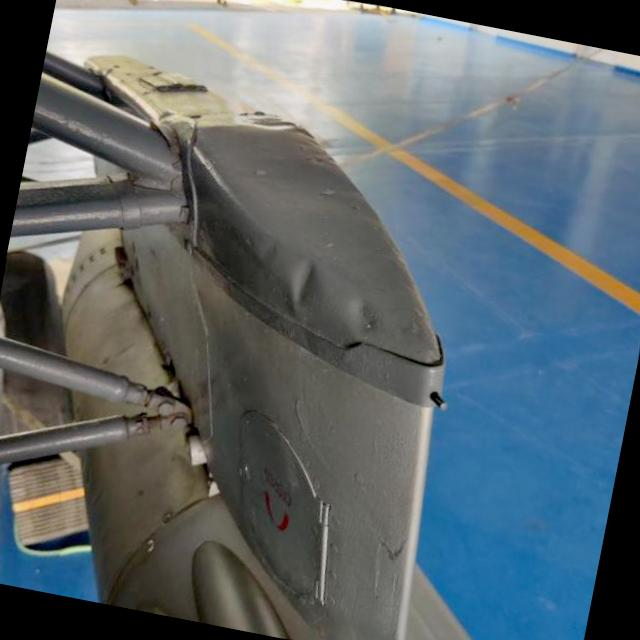dent: (331, 285, 395, 353), (280, 255, 316, 315)
